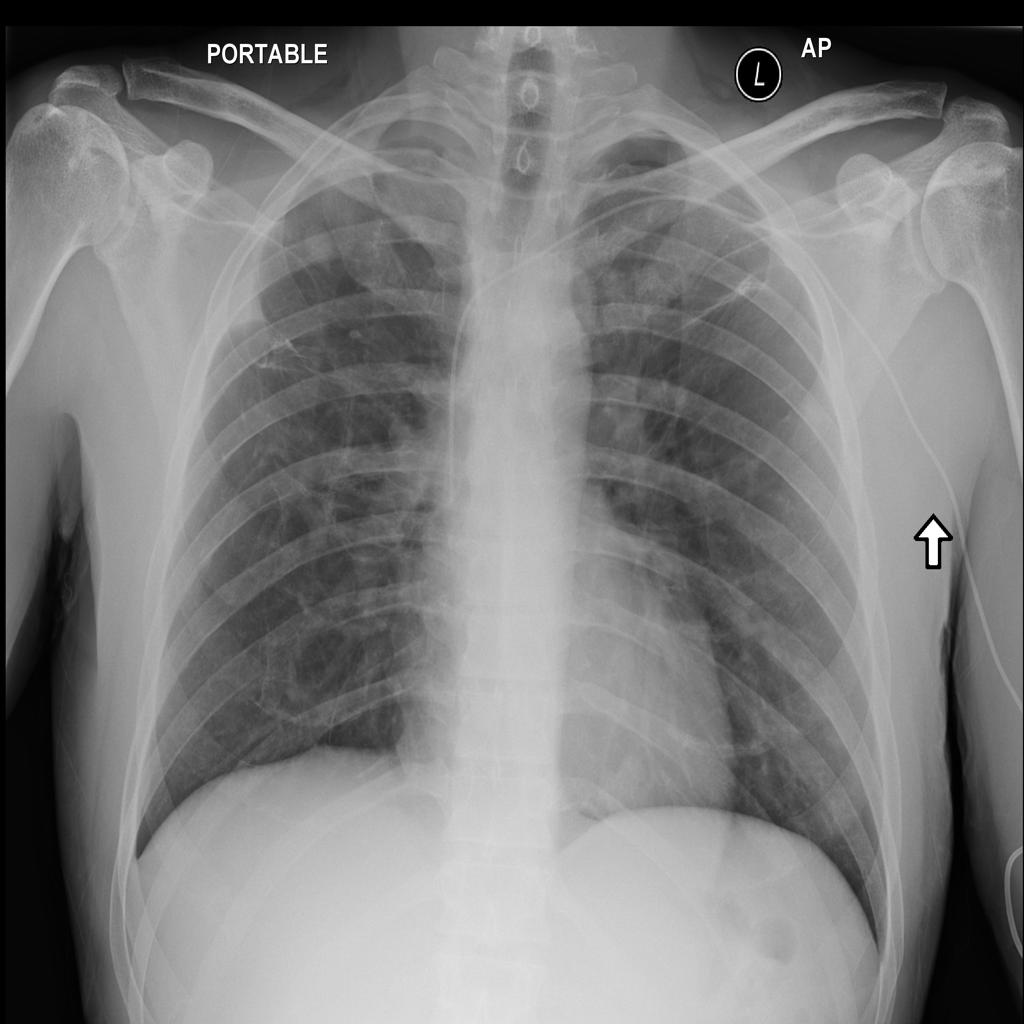nodule: (589, 740, 663, 822), (288, 205, 352, 281)
